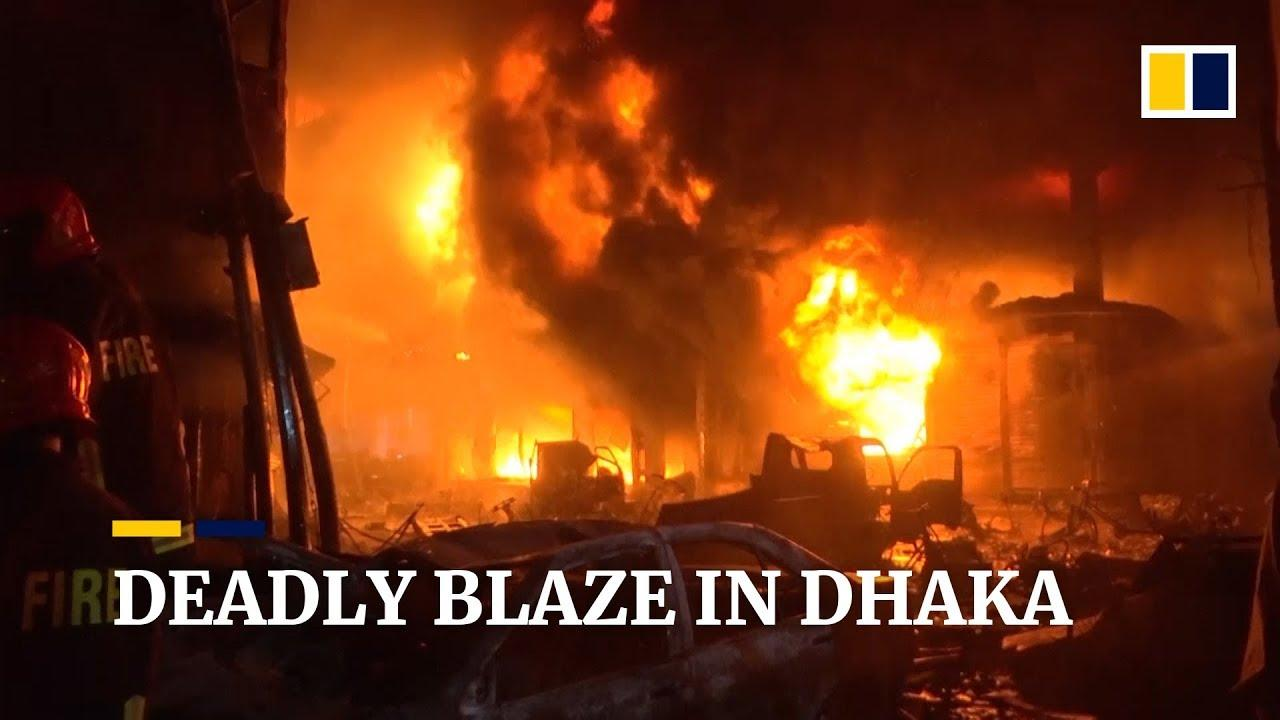Fire: (375, 103, 992, 485)
